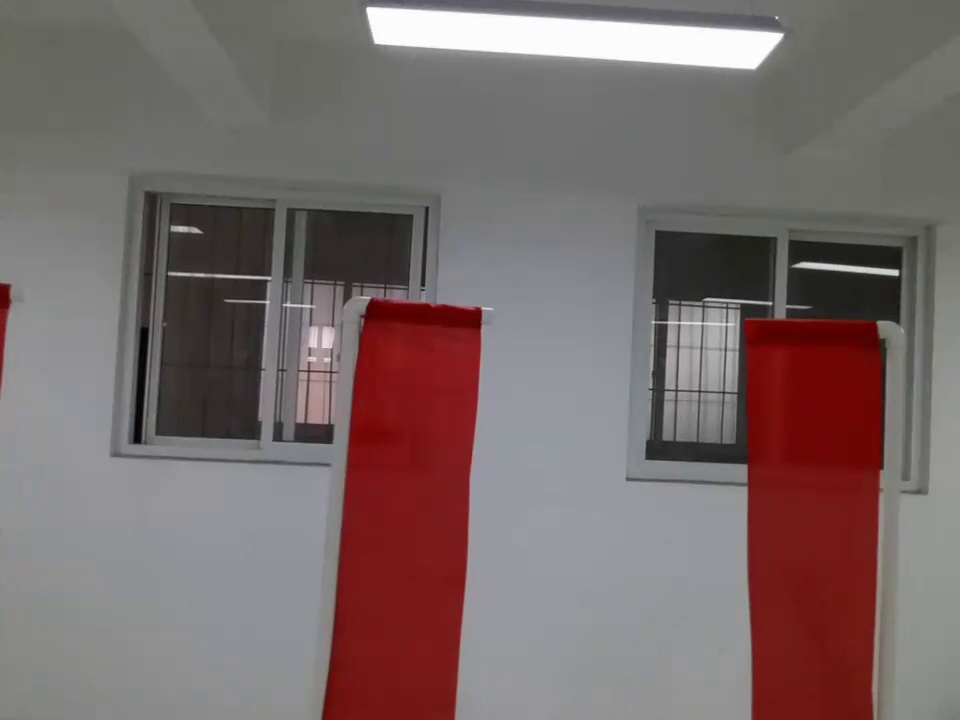qi: (733, 306, 907, 720), (337, 294, 493, 720)
